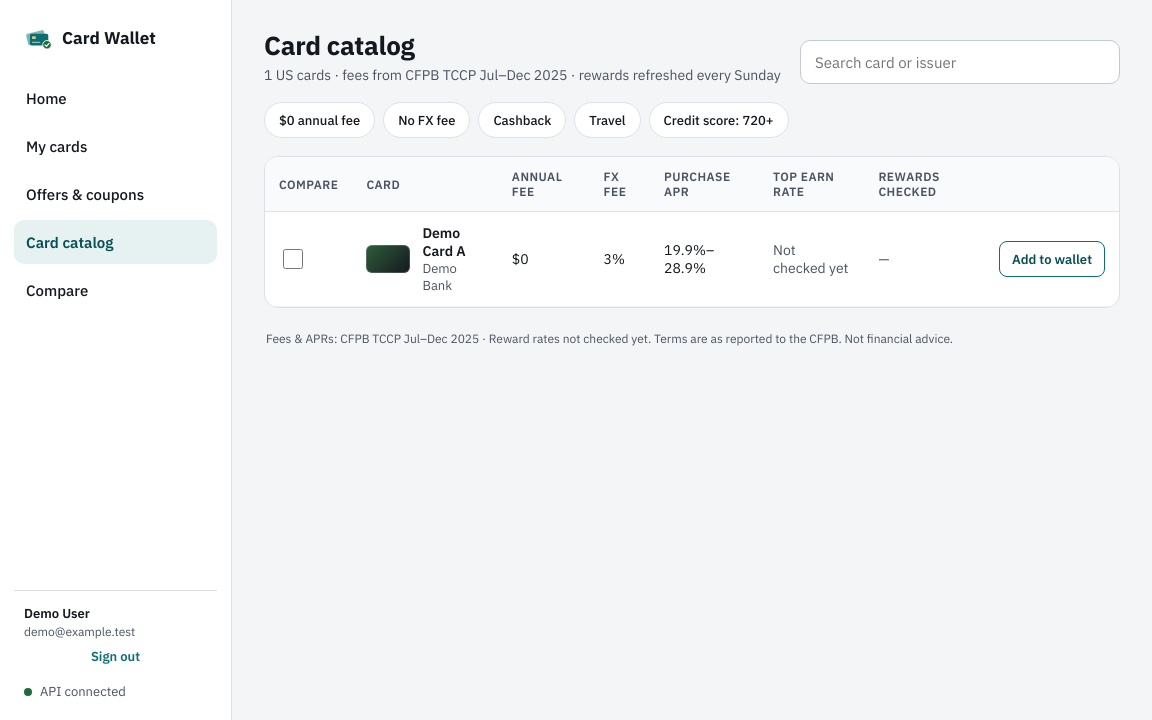
Test: catalog › adds a card with last 4 digits only
The width and height of the screenshot is (1152, 720).
Click the button "Add to wallet" at (1052, 259), box [999,241,1105,277]
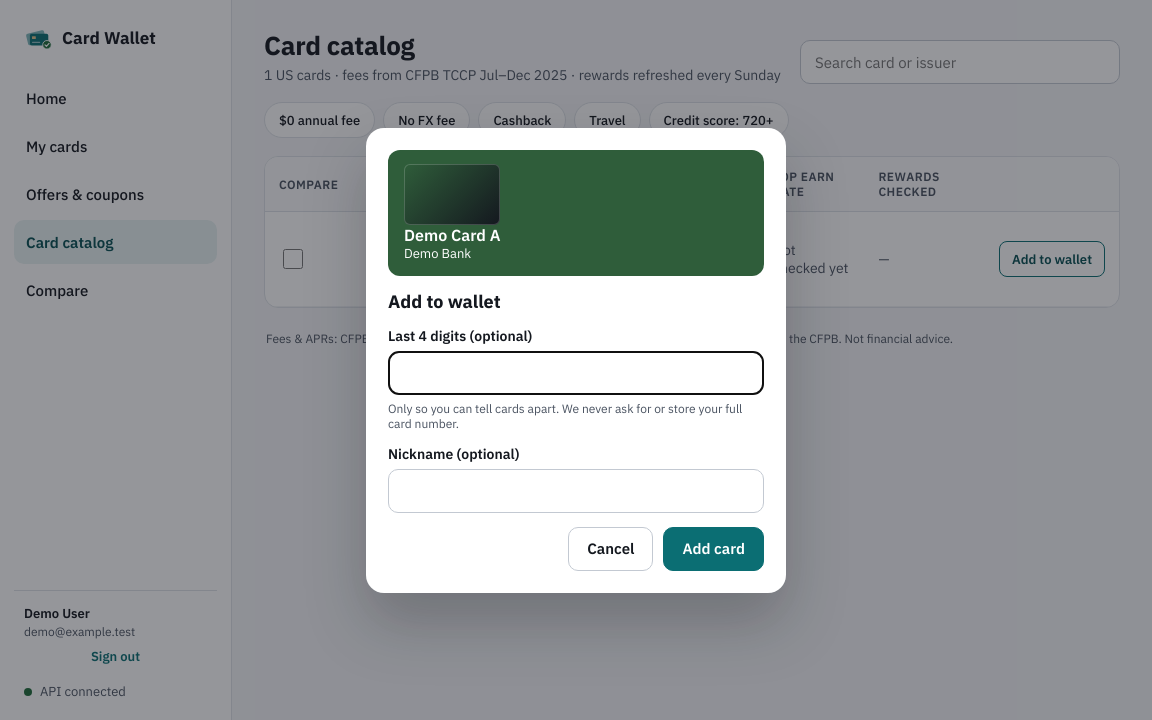
Type "4111 1111 1111 1234" into the field labelled "Last 4 digits (optional)" at (576, 372), box [388,350,764,394]
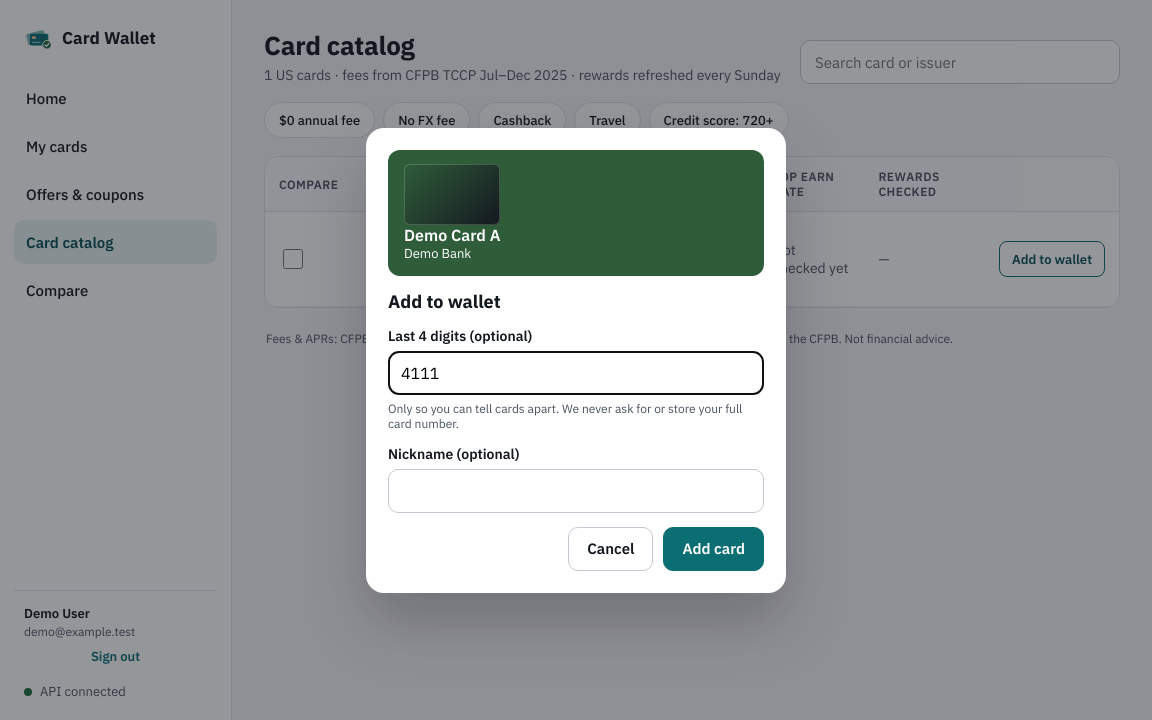
Check: the field labelled "Last 4 digits (optional)" holds "4111", box [388,350,764,394]
Click the button "Add card" at (714, 548), box [664,526,764,570]
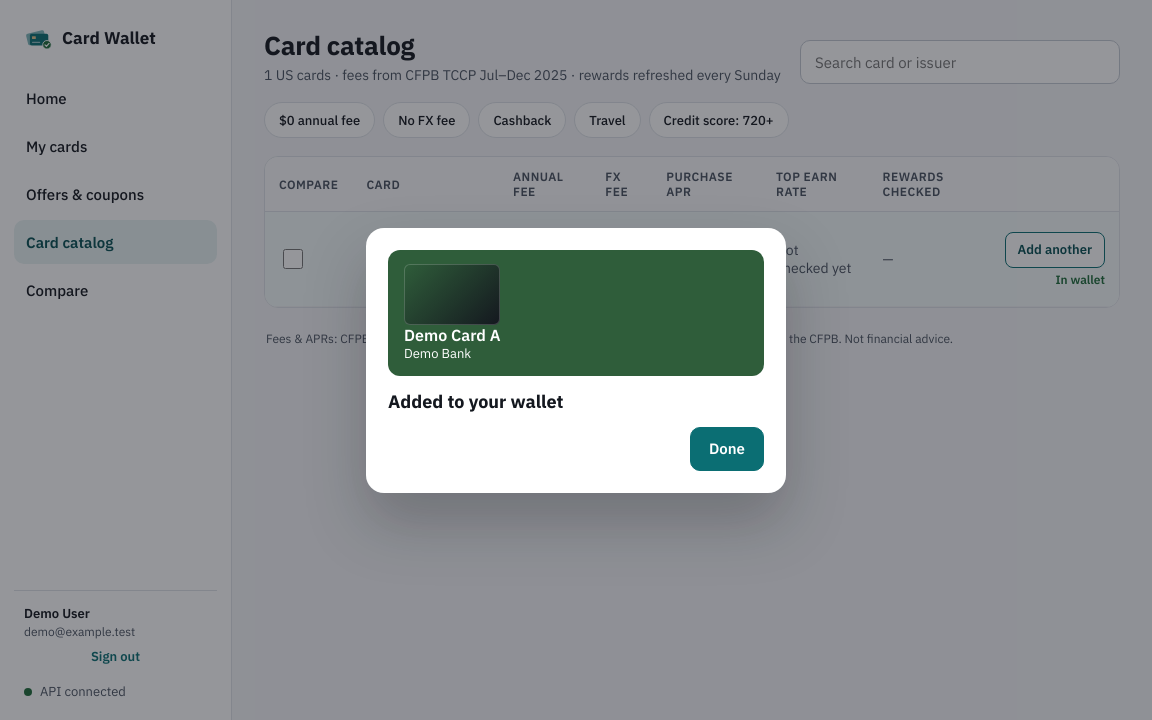
Check: the heading "Added to your wallet" is shown, box [388,390,564,412]
